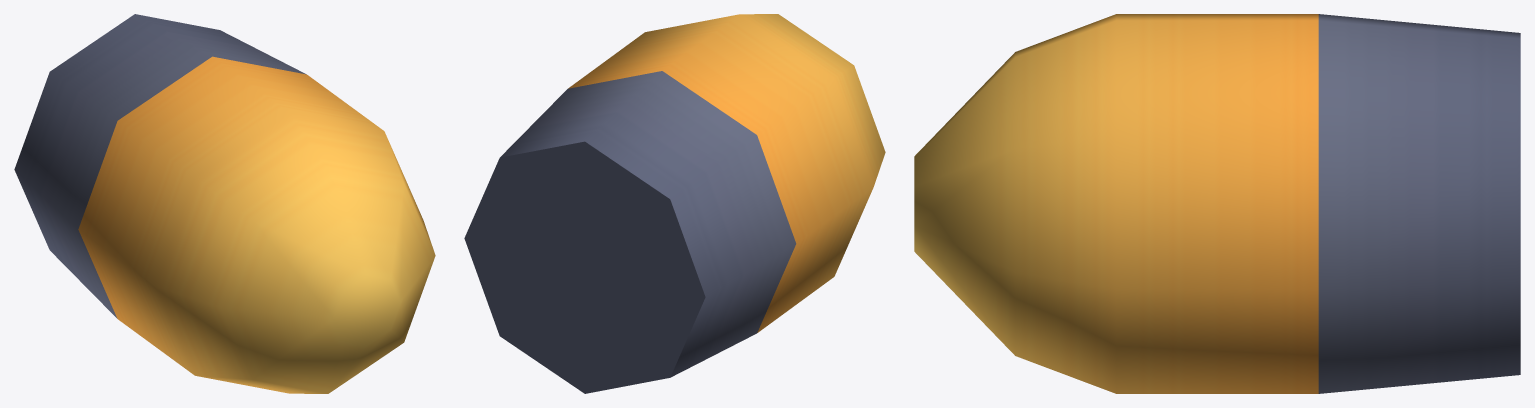
The model's file is weapon-ammo-bullet.gltf.
The picture shows the model from 3 angles, left to right: view 1: azimuth 30°, elevation 25°; view 2: azimuth 150°, elevation 25°; view 3: azimuth 270°, elevation 25°; orthographic projection. The views are drawn at different scales.
Visible parts, largest first — view 1: weapon-ammo-bullet; view 2: weapon-ammo-bullet; view 3: weapon-ammo-bullet.
Boxes of the visible parts, <box> form: weapon-ammo-bullet: <box>14,14,435,393</box>; weapon-ammo-bullet: <box>464,14,885,393</box>; weapon-ammo-bullet: <box>914,14,1520,393</box>.
Bounding box in the file's own units: 0.2 × 0.2 × 0.3.
Materials: 1 (1 with a texture image).
